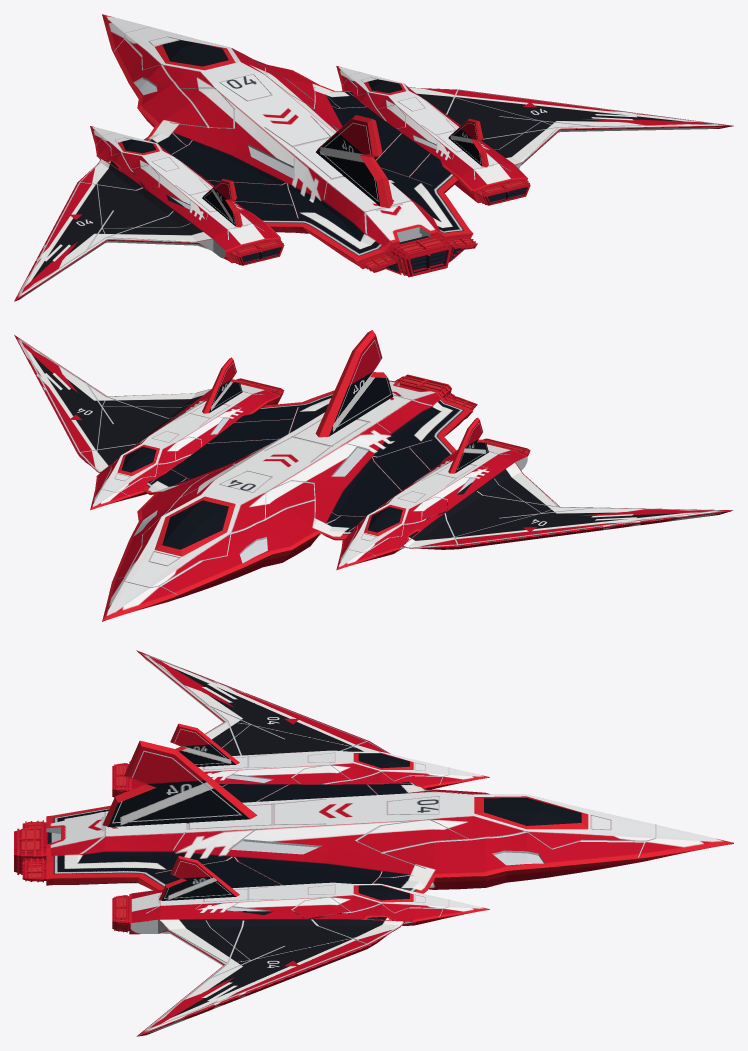
The model's file is racing-red.glb.
3 views of the same model, one above another, from view 1: azimuth 30°, elevation 25°; view 2: azimuth 150°, elevation 25°; view 3: azimuth 270°, elevation 25° (orthographic). The views are drawn at different scales.
Visible parts, largest first — view 1: CENTER_AF04_BODY_CENTER, SIDE_L_AF04_BODY_CENTER, SIDE_R_AF04_BODY_CENTER, STYLE_B_NOTCHED_FIN_center, CENTER_AF04_CANOPY_0, STYLE_B_NOTCHED_FIN_left, STYLE_B_NOTCHED_FIN_right, CENTER_AF04_CENTER_CANOPY_FRAME_USER; view 2: CENTER_AF04_BODY_CENTER, SIDE_L_AF04_BODY_CENTER, SIDE_R_AF04_BODY_CENTER, STYLE_B_NOTCHED_FIN_center, CENTER_AF04_CANOPY_0, STYLE_B_NOTCHED_FIN_right, STYLE_B_NOTCHED_FIN_left, CENTER_AF04_CENTER_CANOPY_FRAME_USER, SIDE_L_AF04_CANOPY_0, SIDE_R_AF04_CANOPY_0; view 3: CENTER_AF04_BODY_CENTER, SIDE_R_AF04_BODY_CENTER, SIDE_L_AF04_BODY_CENTER, STYLE_B_NOTCHED_FIN_center, STYLE_B_NOTCHED_FIN_right, CENTER_AF04_CANOPY_0, STYLE_B_NOTCHED_FIN_left, CENTER_AF04_CENTER_CANOPY_FRAME_USER.
Part boxes in pixels (x1,y1,x2,y2): CENTER_AF04_BODY_CENTER: (102,14,473,269); SIDE_L_AF04_BODY_CENTER: (14,126,280,301); SIDE_R_AF04_BODY_CENTER: (336,66,733,203); STYLE_B_NOTCHED_FIN_center: (316,115,393,208); CENTER_AF04_CANOPY_0: (162,40,228,66); STYLE_B_NOTCHED_FIN_left: (202,178,242,227); STYLE_B_NOTCHED_FIN_right: (448,118,488,167); CENTER_AF04_CENTER_CANOPY_FRAME_USER: (155,40,235,70); CENTER_AF04_BODY_CENTER: (102,381,472,621); SIDE_L_AF04_BODY_CENTER: (336,444,733,570); SIDE_R_AF04_BODY_CENTER: (14,335,280,510); STYLE_B_NOTCHED_FIN_center: (315,330,393,437); CENTER_AF04_CANOPY_0: (162,500,228,549); STYLE_B_NOTCHED_FIN_right: (202,357,242,413); STYLE_B_NOTCHED_FIN_left: (448,417,488,473); CENTER_AF04_CENTER_CANOPY_FRAME_USER: (154,496,235,556); SIDE_L_AF04_CANOPY_0: (368,507,402,532); SIDE_R_AF04_CANOPY_0: (121,446,156,472); CENTER_AF04_BODY_CENTER: (46,782,733,893); SIDE_R_AF04_BODY_CENTER: (129,882,489,1036); SIDE_L_AF04_BODY_CENTER: (129,650,489,790); STYLE_B_NOTCHED_FIN_center: (102,740,257,827); STYLE_B_NOTCHED_FIN_right: (159,855,239,900); CENTER_AF04_CANOPY_0: (484,798,581,825); STYLE_B_NOTCHED_FIN_left: (170,723,239,766); CENTER_AF04_CENTER_CANOPY_FRAME_USER: (474,796,588,829).
Bounding box in the file's own units: 16.84 × 2.72 × 13.27.
15 materials, 5 textured.
